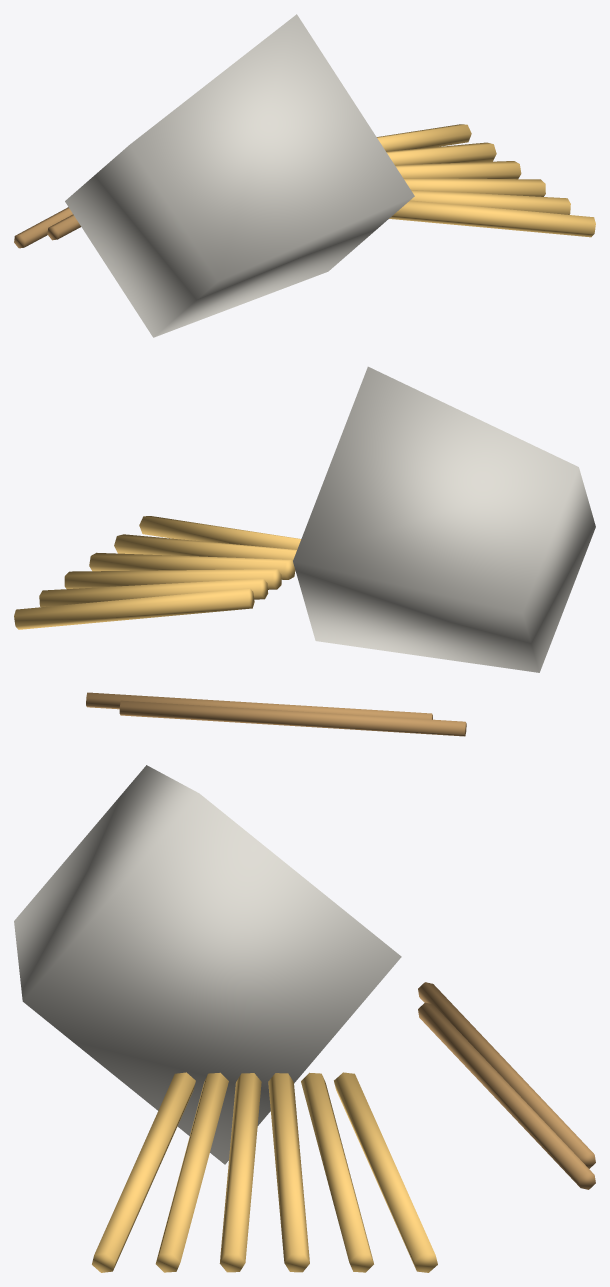
The model's file is Trash_NoodleBox.fbx.
3 views of the same model, one above another, from view 1: azimuth 30°, elevation 25°; view 2: azimuth 150°, elevation 25°; view 3: azimuth 270°, elevation 25° (orthographic). The views are drawn at different scales.
Visible parts, largest first — view 1: Trash_NoodleBox; view 2: Trash_NoodleBox; view 3: Trash_NoodleBox.
Boxes of the visible parts, left/top/right/bottom form: Trash_NoodleBox: left=14, top=14, right=595, bottom=337; Trash_NoodleBox: left=14, top=366, right=595, bottom=736; Trash_NoodleBox: left=14, top=765, right=595, bottom=1272.
Size of the model in its own units: 0.4076 by 0.2369 by 0.3607.
